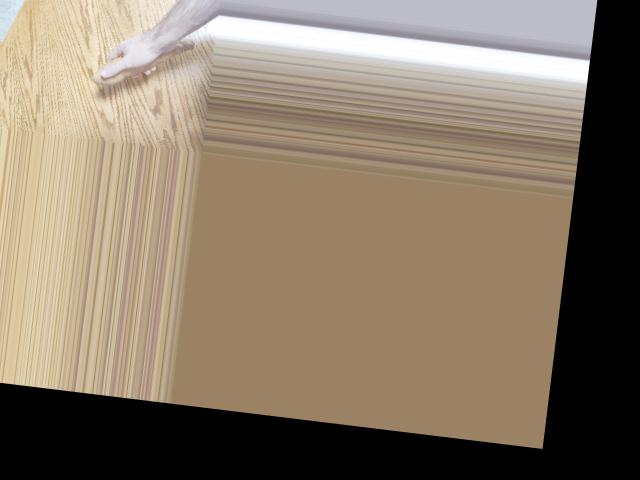sweet_potato: (90, 26, 212, 98)
